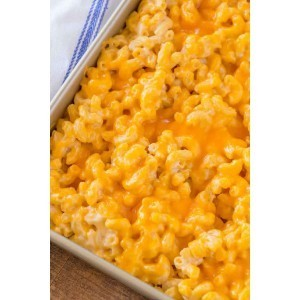cheese_brain food: (93, 122, 226, 230)
